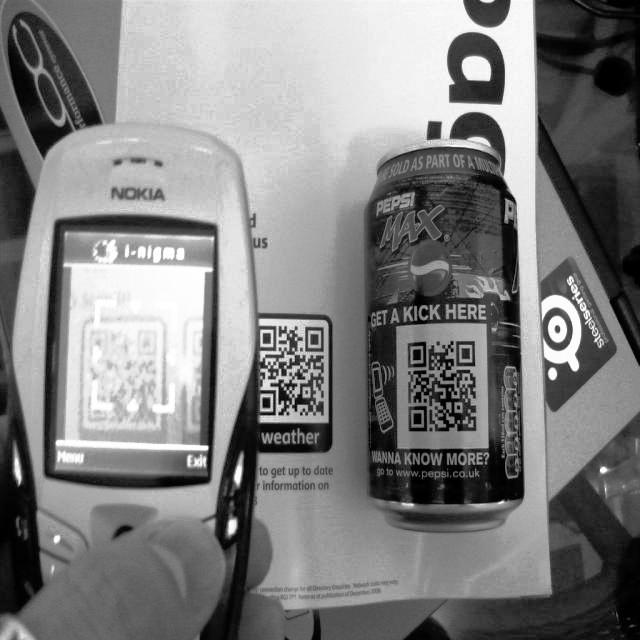qr_code: (87, 329, 157, 424), (408, 341, 476, 431), (258, 326, 323, 415)
